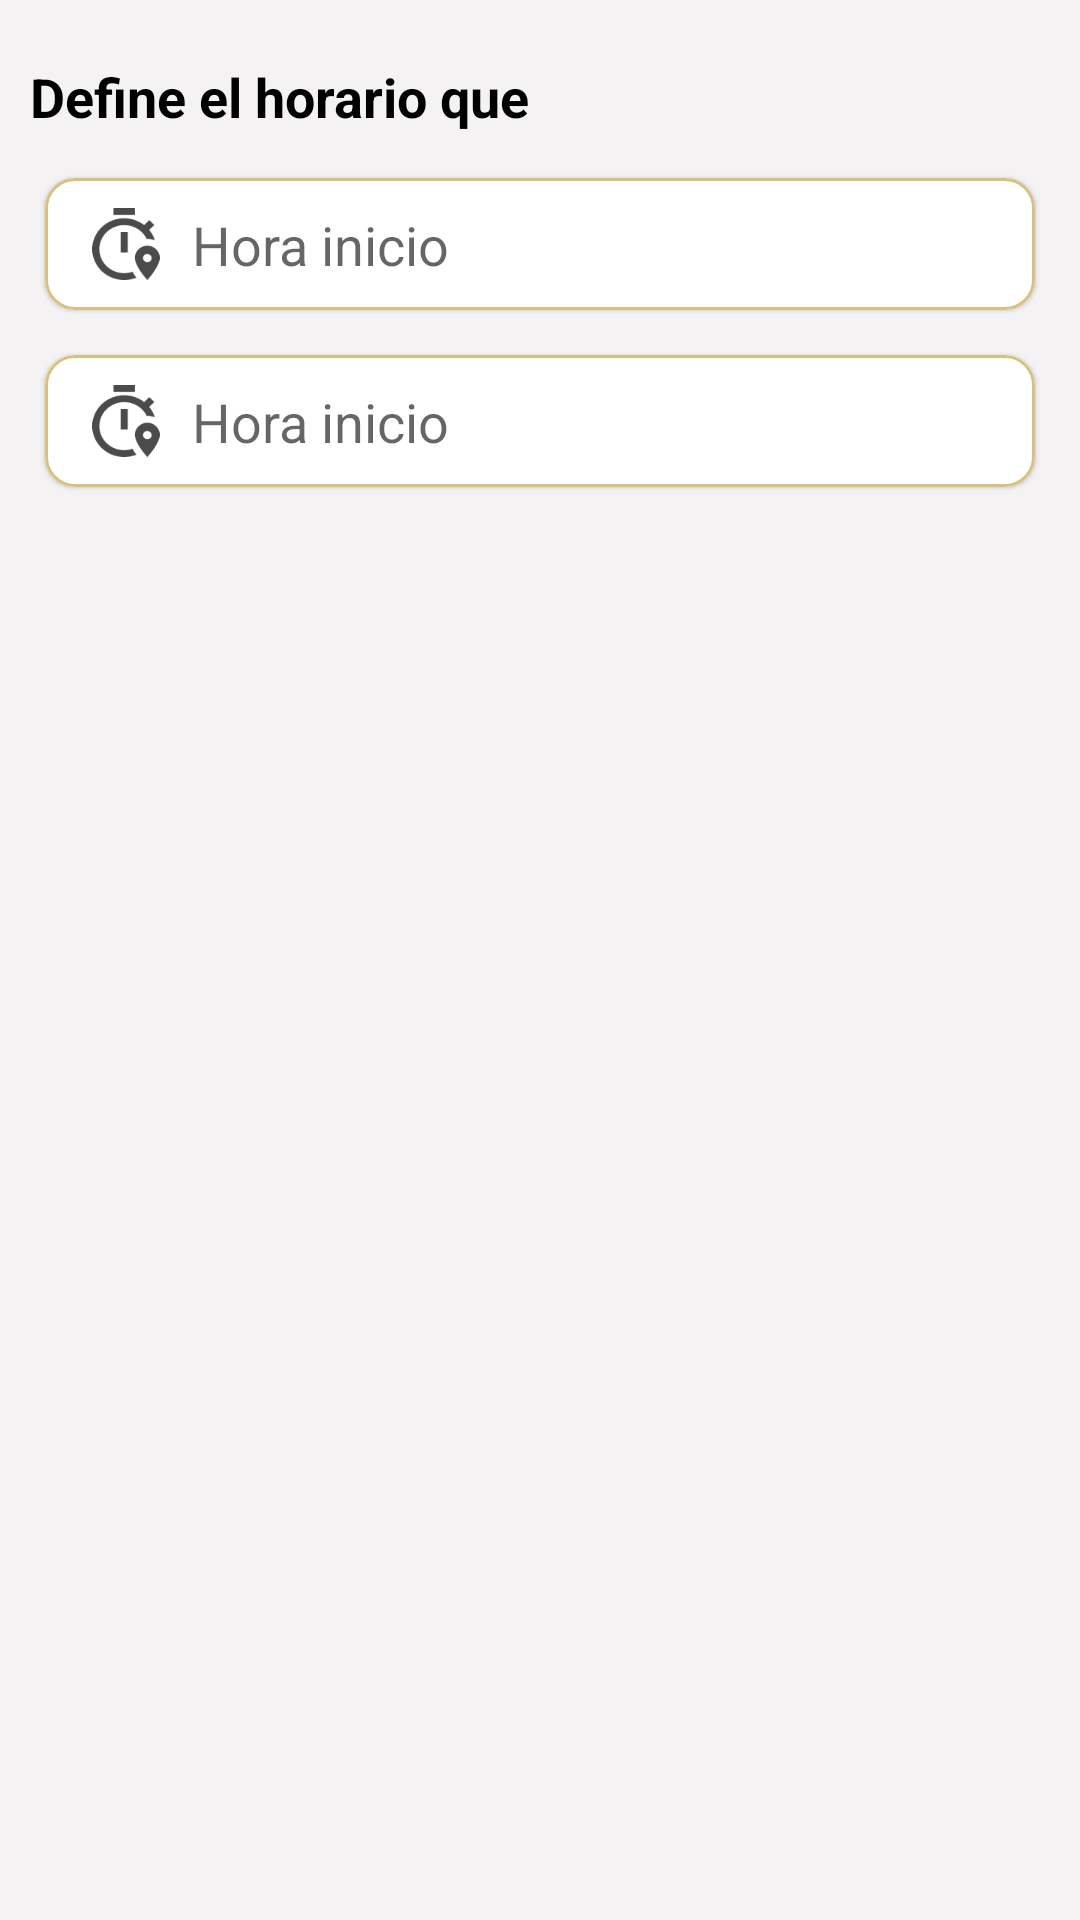

Icons on this 1080 x 1920 Android screen, each with its box as (x1=x1, y1=y1, x2=x2, y2=y2):
time location: (x1=92, y1=208, x2=160, y2=280), (x1=92, y1=385, x2=160, y2=457)
